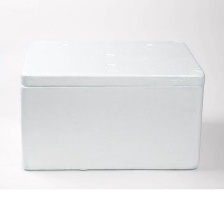foam_box: (12, 31, 212, 177)
